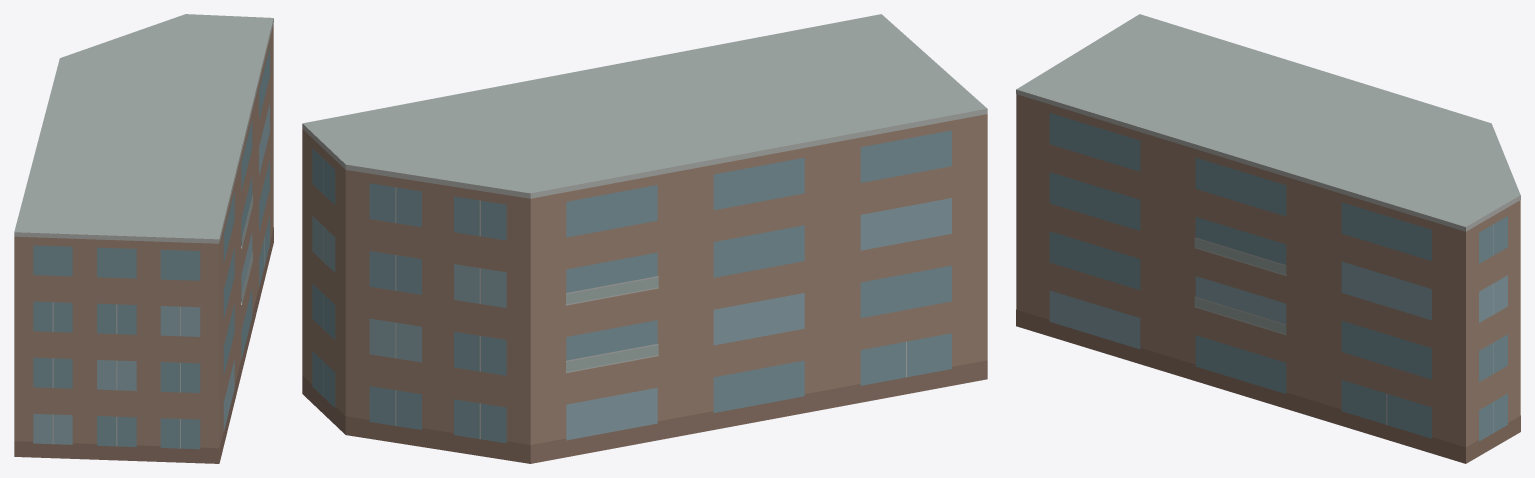
Rendered from survey-upis-33008642.glb.
The picture shows the model from 3 angles, left to right: view 1: azimuth 30°, elevation 25°; view 2: azimuth 150°, elevation 25°; view 3: azimuth 270°, elevation 25°; orthographic projection. The views are drawn at different scales.
Visible parts, largest first — view 1: survey-upis-33008642.tmp; view 2: survey-upis-33008642.tmp; view 3: survey-upis-33008642.tmp.
Part boxes in pixels (x1,y1,x2,y2): survey-upis-33008642.tmp: [14, 14, 273, 463]; survey-upis-33008642.tmp: [302, 14, 987, 463]; survey-upis-33008642.tmp: [1016, 14, 1520, 463].
Bounding box in the file's own units: 23.95 × 12.4 × 23.96.
